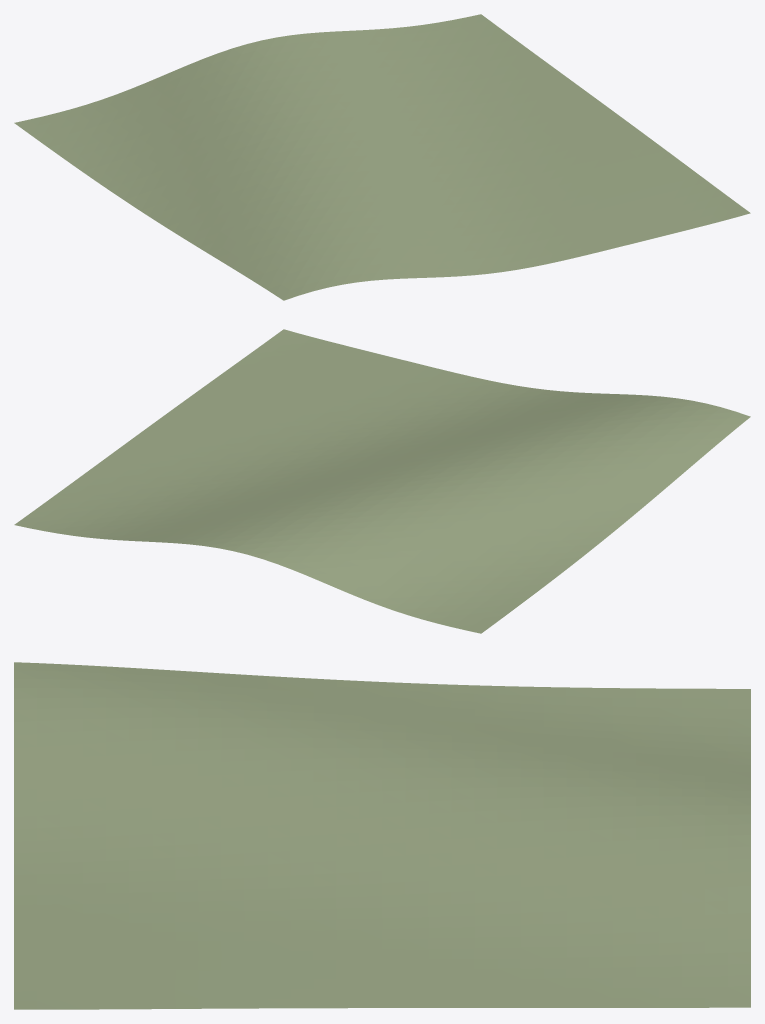
The model's file is desert-8-7.glb.
The picture shows the model from 3 angles, top to bottom: view 1: azimuth 30°, elevation 25°; view 2: azimuth 150°, elevation 25°; view 3: azimuth 270°, elevation 25°; orthographic projection. The views are drawn at different scales.
Parts seen in each view (by area): view 1: desert-8-7; view 2: desert-8-7; view 3: desert-8-7.
Part boxes in pixels (x1,y1,x2,y2): desert-8-7: (14, 14, 750, 300); desert-8-7: (14, 329, 750, 633); desert-8-7: (14, 662, 750, 1009).
Size of the model in its own units: 512 by 32.2 by 512.
